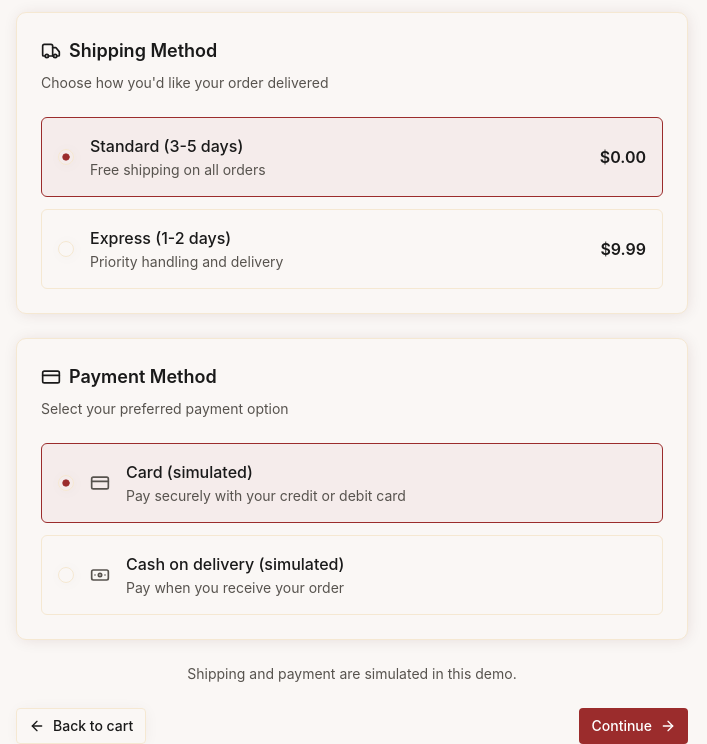
it: CheckoutForm › step navigation › advances to Step 2 when Continue is clicked
(page scrolled)
Click the button with test id "checkout-continue" at (634, 726), box left=580, top=708, right=688, bottom=743
(page scrolled)
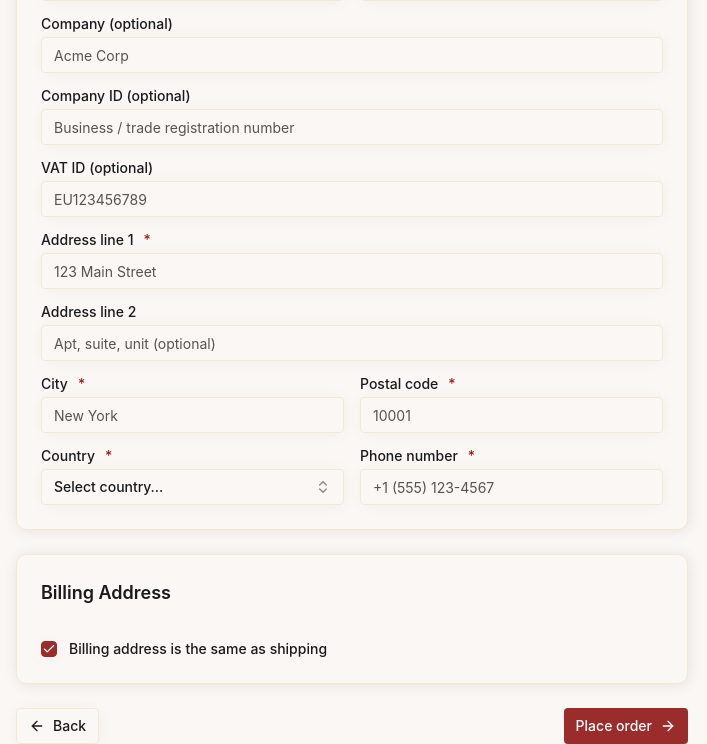
Expected: the button with test id "checkout-submit" is shown, left=564, top=708, right=688, bottom=743
